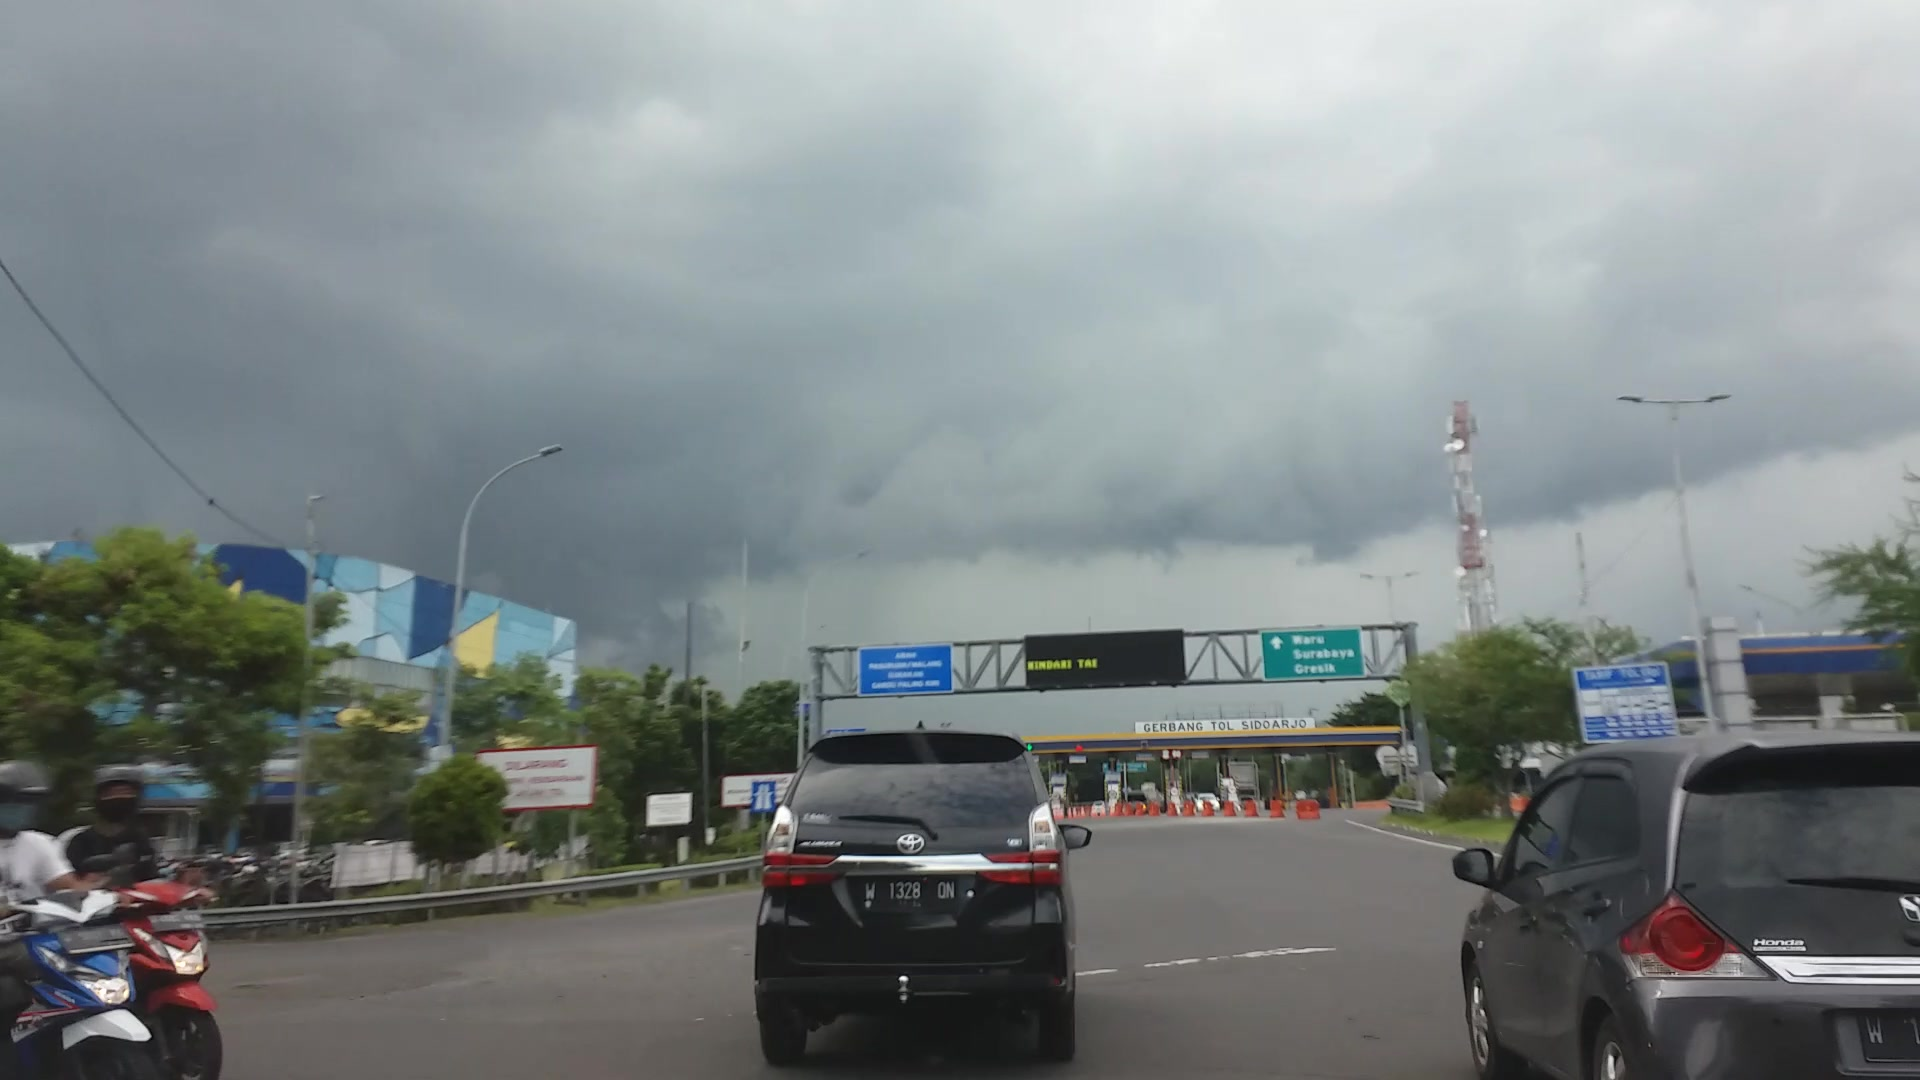plate_positive: (862, 876, 957, 913)
